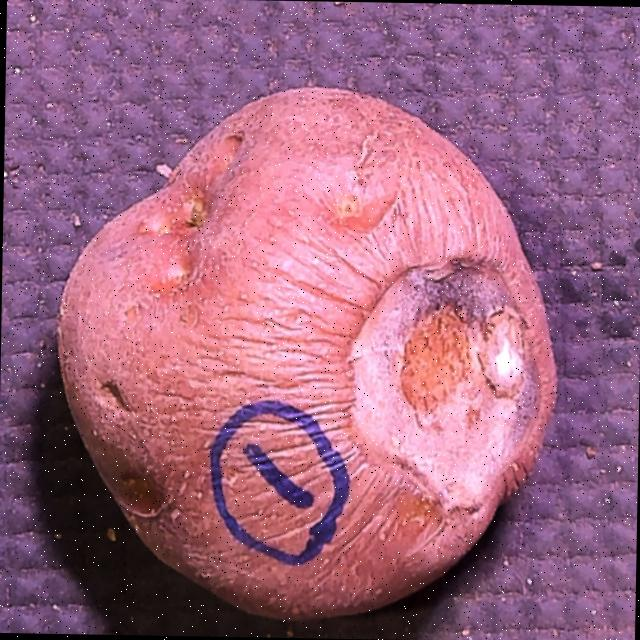Damaged potato: (34, 76, 568, 637)
